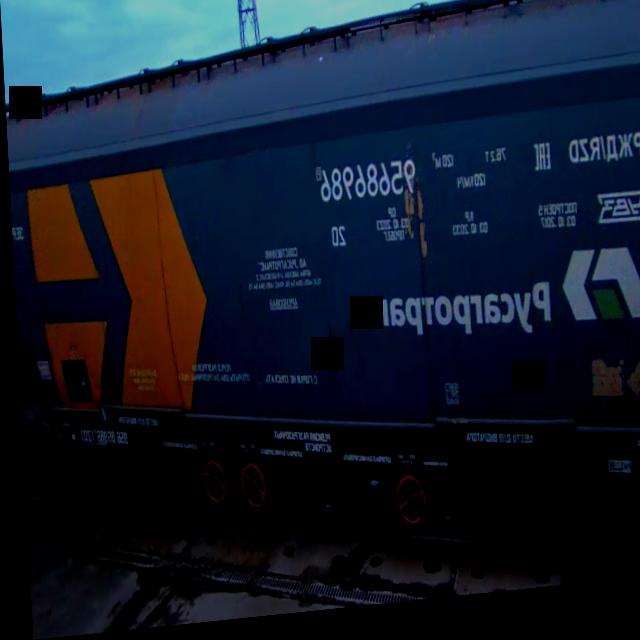hopper: (0, 0, 640, 620)
